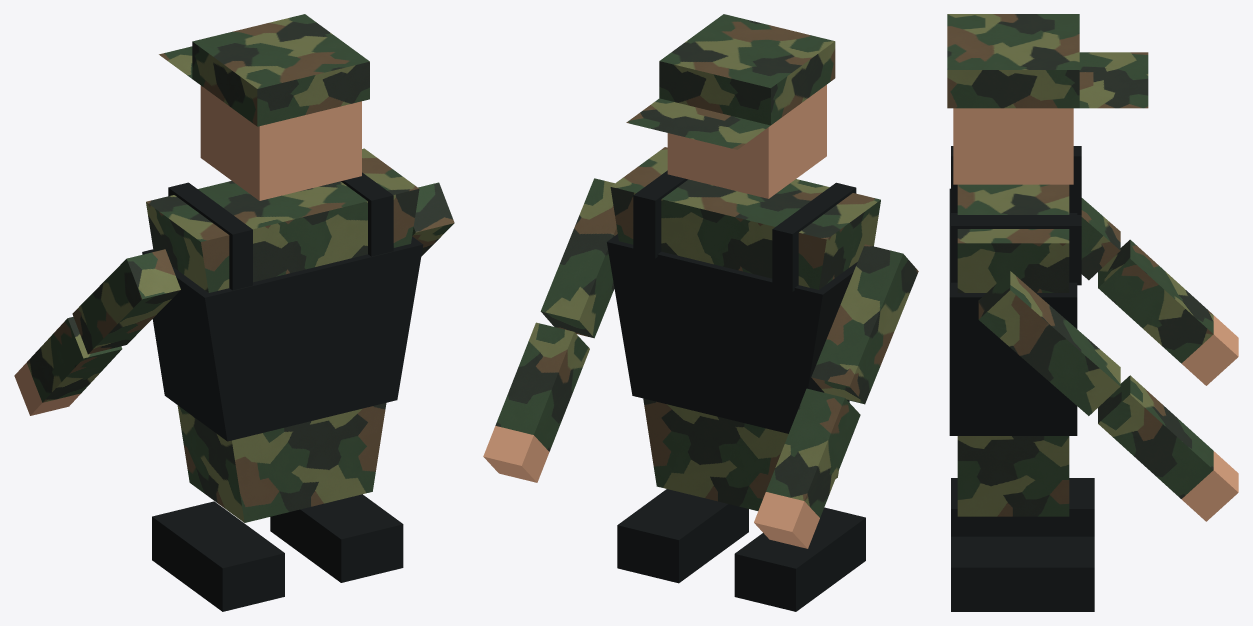
File: Millitia.glb
3 renders of one model, left to right at view 1: azimuth 30°, elevation 25°; view 2: azimuth 150°, elevation 25°; view 3: azimuth 270°, elevation 25°, orthographic. The views are drawn at different scales.
Parts seen in each view (by area): view 1: body.003, body.001, hat.001, head.001, ShoeLeft.001, ShoeRight.001, armLeft.001, handLeft.001, ShoeLeft.002, ShoeRight.002, armRight.001; view 2: body.003, body.001, hat.001, handLeft.001, handRight.001, armLeft.001, head.001, ShoeRight.001, ShoeLeft.001, armRight.001, ShoeLeft.002, ShoeRight.002; view 3: body.001, hat.001, body.003, ShoeRight.001, head.001, armRight.001, handLeft.001, handRight.001, ShoeLeft.001, ShoeRight.002, armLeft.001, ShoeLeft.002.
Boxes of the visible parts, left/top/right/bottom form: body.003: left=142, top=236, right=423, bottom=441; body.001: left=146, top=148, right=419, bottom=522; hat.001: left=159, top=14, right=369, bottom=126; head.001: left=200, top=85, right=361, bottom=200; ShoeLeft.001: left=152, top=501, right=284, bottom=611; ShoeRight.001: left=270, top=494, right=403, bottom=582; armLeft.001: left=72, top=249, right=180, bottom=354; handLeft.001: left=14, top=316, right=122, bottom=415; ShoeLeft.002: left=168, top=182, right=252, bottom=290; ShoeRight.002: left=341, top=172, right=393, bottom=256; armRight.001: left=412, top=182, right=454, bottom=256; body.003: left=607, top=234, right=857, bottom=433; body.001: left=610, top=147, right=880, bottom=510; hat.001: left=626, top=14, right=835, bottom=149; handLeft.001: left=754, top=388, right=860, bottom=548; handRight.001: left=483, top=322, right=589, bottom=482; armLeft.001: left=811, top=244, right=918, bottom=404; head.001: left=667, top=84, right=826, bottom=198; ShoeRight.001: left=617, top=489, right=748, bottom=583; ShoeLeft.001: left=734, top=507, right=865, bottom=611; armRight.001: left=540, top=178, right=617, bottom=338; ShoeLeft.002: left=772, top=182, right=856, bottom=291; ShoeRight.002: left=633, top=170, right=687, bottom=258; body.001: left=957, top=184, right=1069, bottom=516; hat.001: left=947, top=14, right=1148, bottom=108; body.003: left=949, top=188, right=1077, bottom=435; ShoeRight.001: left=951, top=536, right=1094, bottom=611; head.001: left=953, top=108, right=1073, bottom=184; armRight.001: left=978, top=271, right=1120, bottom=415; handLeft.001: left=1098, top=239, right=1238, bottom=385; handRight.001: left=1098, top=375, right=1238, bottom=521; ShoeLeft.001: left=951, top=478, right=1094, bottom=536; ShoeRight.002: left=951, top=215, right=1081, bottom=285; armLeft.001: left=1081, top=198, right=1120, bottom=280; ShoeLeft.002: left=951, top=146, right=1081, bottom=214.
Bounding box in the file's own units: 1.02 × 1.61 × 0.8095.
Materials: 3 (1 with a texture image).
